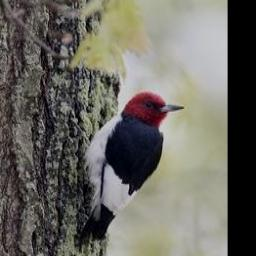Woodpecker: (81, 90, 186, 242)
